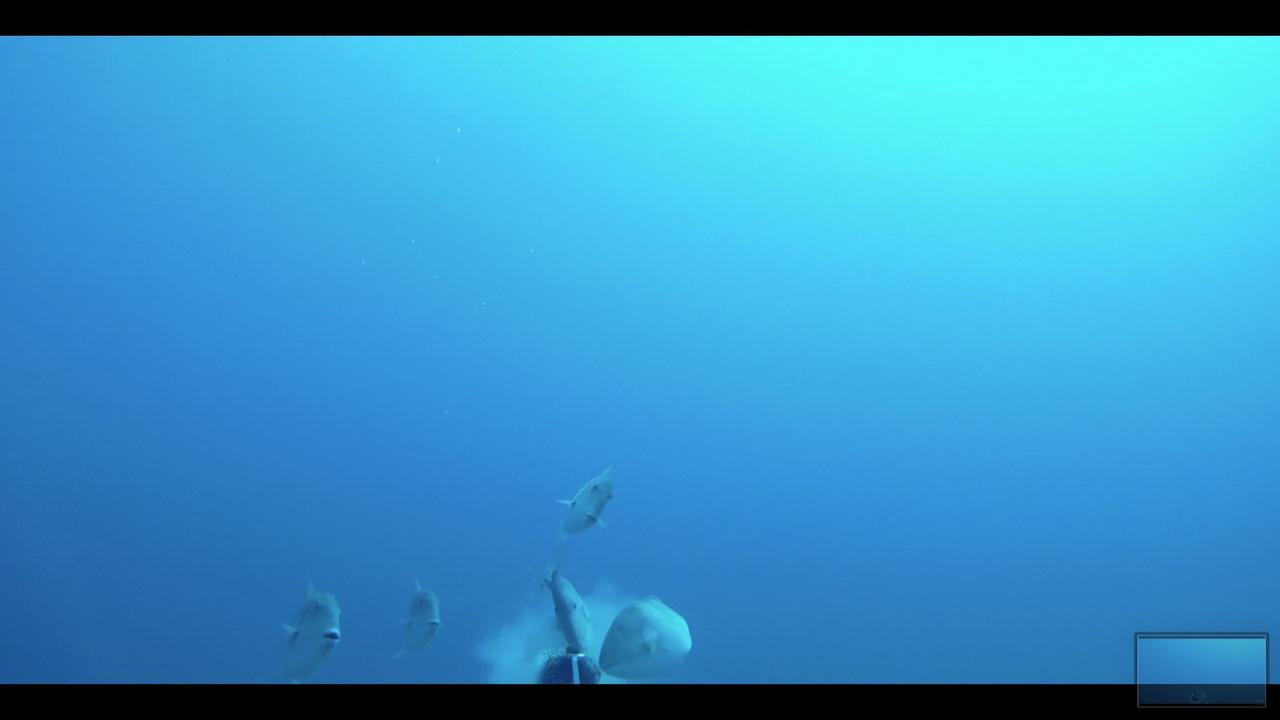balistes: (257, 574, 352, 682), (594, 589, 703, 681), (386, 572, 450, 670), (552, 459, 623, 546), (536, 562, 599, 658)
